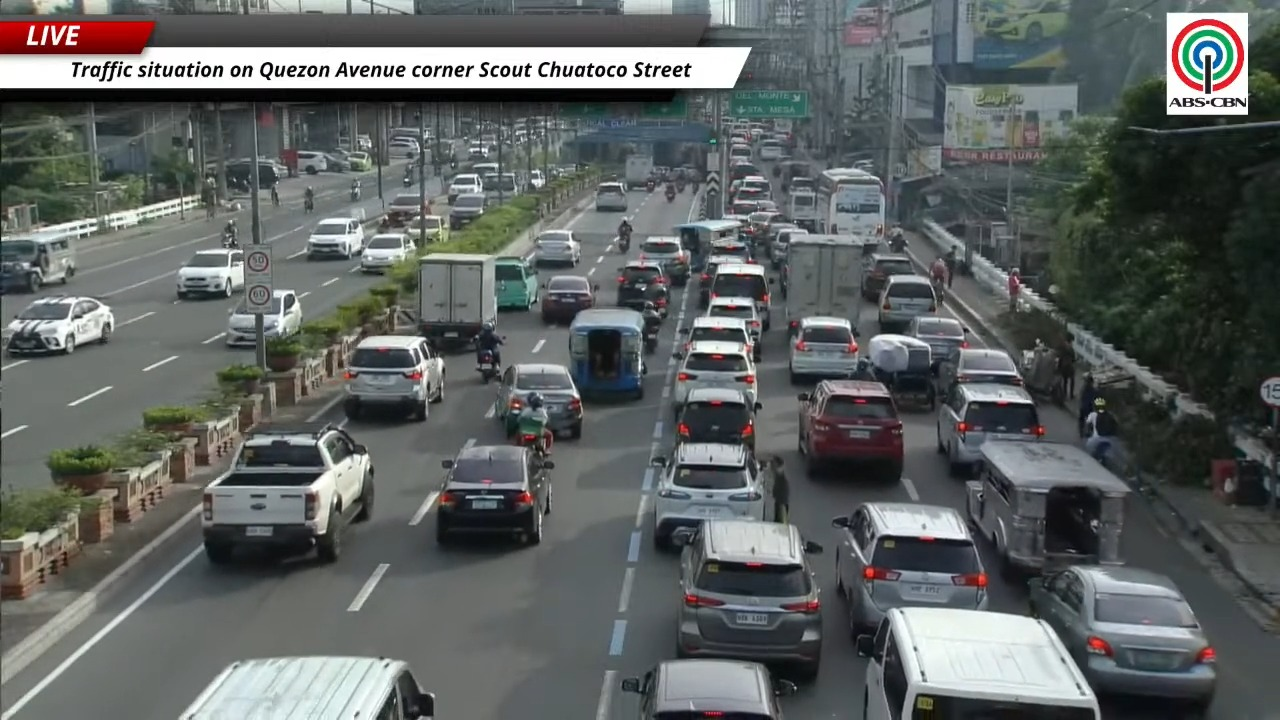bus: (815, 168, 885, 236)
car: (1029, 565, 1215, 716), (672, 519, 822, 679), (832, 502, 989, 634), (179, 654, 435, 719), (651, 442, 772, 548), (436, 445, 553, 544), (798, 380, 903, 481), (620, 659, 796, 719), (936, 383, 1045, 476), (343, 335, 445, 421), (494, 363, 583, 438), (3, 295, 115, 354), (671, 341, 757, 412), (676, 387, 760, 450), (789, 316, 858, 382), (710, 262, 774, 331), (225, 289, 302, 346), (982, 0, 1067, 44), (678, 315, 760, 360), (704, 296, 761, 358), (176, 248, 244, 299), (877, 275, 937, 331), (698, 243, 749, 308), (940, 347, 1023, 385), (904, 316, 968, 365), (616, 260, 668, 316), (540, 275, 598, 322), (639, 236, 691, 286), (862, 254, 915, 300), (306, 217, 363, 259), (359, 233, 414, 272), (533, 229, 580, 266), (769, 227, 808, 268), (404, 214, 449, 246), (449, 192, 487, 229), (385, 192, 423, 225), (746, 209, 780, 245), (446, 173, 482, 204), (710, 238, 754, 262), (594, 182, 628, 211), (387, 138, 420, 159), (297, 151, 327, 174), (740, 176, 771, 196), (730, 162, 763, 180), (731, 187, 767, 202), (346, 151, 372, 171), (728, 199, 759, 215), (326, 151, 349, 172), (468, 144, 488, 161), (756, 199, 780, 212), (529, 170, 546, 188)
motorcycle: (514, 415, 548, 457), (476, 350, 499, 383), (643, 326, 659, 354), (932, 277, 945, 304), (221, 231, 238, 248), (618, 231, 630, 252), (350, 182, 360, 201), (665, 186, 676, 202), (304, 198, 314, 212), (402, 174, 412, 187), (645, 180, 655, 191), (676, 182, 685, 193), (691, 182, 698, 194)
truck: (201, 423, 373, 564), (785, 234, 868, 332), (416, 253, 497, 349), (785, 188, 819, 232), (624, 153, 653, 188)
